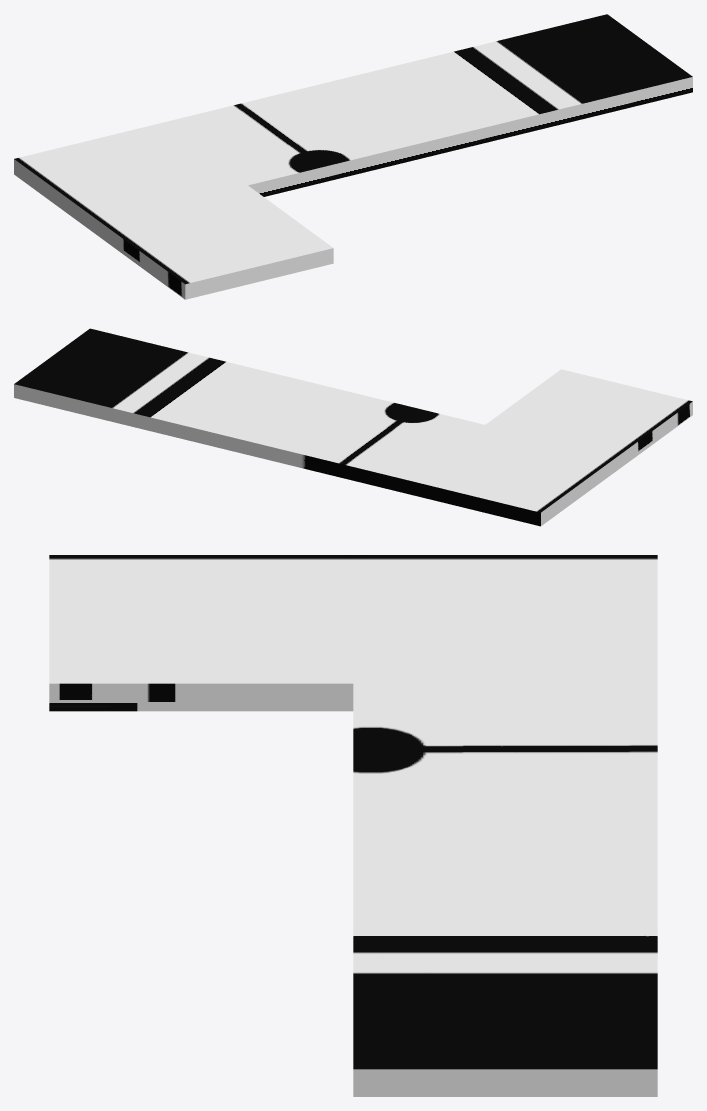
File: L_down.obj
The picture shows the model from 3 angles, top to bottom: view 1: azimuth 30°, elevation 25°; view 2: azimuth 150°, elevation 25°; view 3: azimuth 270°, elevation 25°; orthographic projection. The views are drawn at different scales.
Parts seen in each view (by area): view 1: pCube1; view 2: pCube1; view 3: pCube1.
Boxes of the visible parts, x1=… form: pCube1: x1=14, y1=14, x2=692, y2=299; pCube1: x1=14, y1=328, x2=692, y2=526; pCube1: x1=49, y1=555, x2=657, y2=1096.
Bounding box in the file's own units: 4 × 0.1 × 2.
